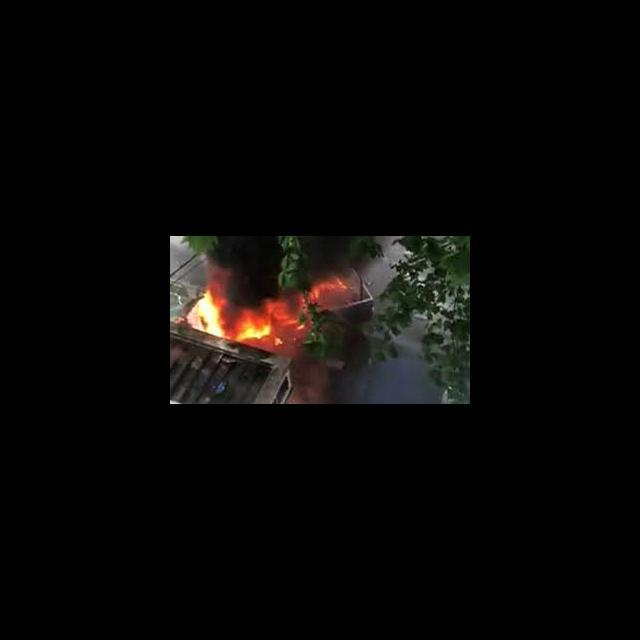Fire: (233, 290, 304, 348), (191, 282, 233, 338), (308, 278, 347, 307)
